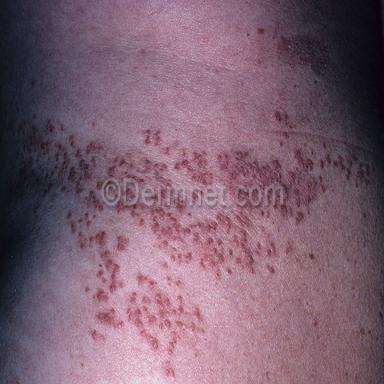Darier_s-Disease: (11, 110, 374, 381)
